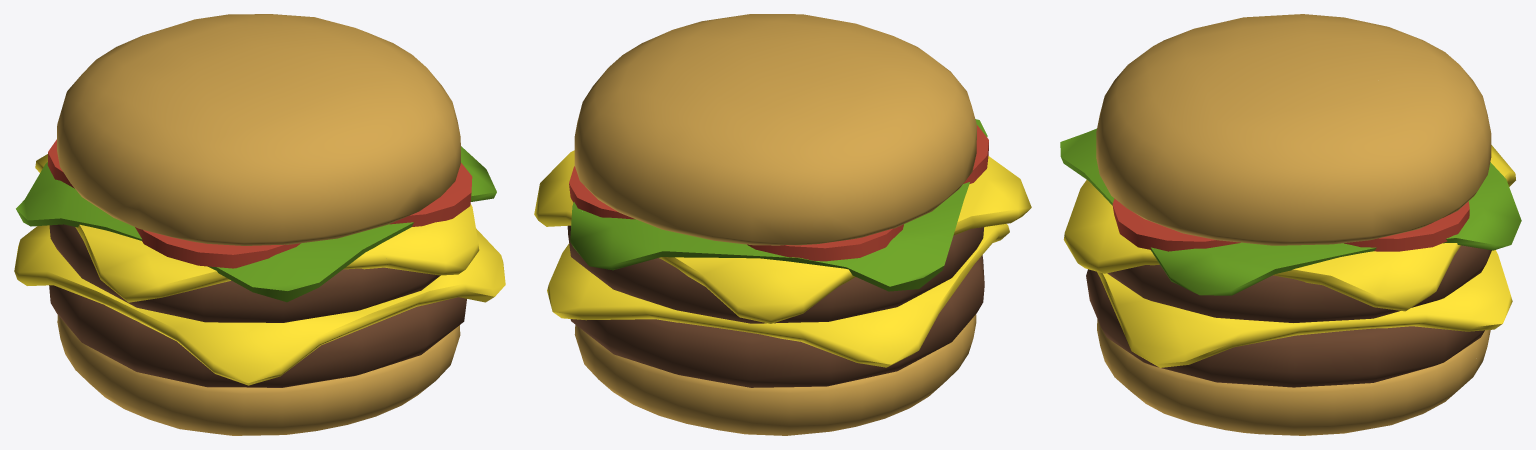
File: hamburger_low_rootss-orange62.fbx
3 renders of one model, left to right at view 1: azimuth 30°, elevation 25°; view 2: azimuth 150°, elevation 25°; view 3: azimuth 270°, elevation 25°, orthographic.
Visible parts, largest first — view 1: hamburger_low_1_sh_1, hamburger_low_1_sh_5, hamburger_low_1_sh_11, hamburger_low_1_sh_44, hamburger_low_1_sh_17, hamburger_low_1_sh_4, hamburger_low_1_sh_59, hamburger_low_1_sh_52, hamburger_low_1_sh_38, hamburger_low_1_sh_55, hamburger_low_1_sh_47, hamburger_low_1_sh_20 (+14 smaller); view 2: hamburger_low_1_sh_5, hamburger_low_1_sh_2, hamburger_low_1_sh_8, hamburger_low_1_sh_14, hamburger_low_1_sh_1, hamburger_low_1_sh_42, hamburger_low_1_sh_39, hamburger_low_1_sh_53, hamburger_low_1_sh_43, hamburger_low_1_sh_16, hamburger_low_1_sh_36, hamburger_low_1_sh_9 (+18 smaller); view 3: hamburger_low_1_sh_6, hamburger_low_1_sh_1, hamburger_low_1_sh_2, hamburger_low_1_sh_5, hamburger_low_1_sh_16, hamburger_low_1_sh_43, hamburger_low_1_sh_51, hamburger_low_1_sh_47, hamburger_low_1_sh_58, hamburger_low_1_sh_13, hamburger_low_1_sh_9, hamburger_low_1_sh_55 (+16 smaller).
Part boxes in pixels (x1=…): hamburger_low_1_sh_1: x1=178, y1=46, x2=455, y2=228; hamburger_low_1_sh_5: x1=57, y1=24, x2=320, y2=225; hamburger_low_1_sh_11: x1=105, y1=356, x2=384, y2=435; hamburger_low_1_sh_44: x1=83, y1=283, x2=384, y2=385; hamburger_low_1_sh_17: x1=89, y1=300, x2=386, y2=387; hamburger_low_1_sh_4: x1=131, y1=184, x2=370, y2=245; hamburger_low_1_sh_59: x1=86, y1=265, x2=381, y2=322; hamburger_low_1_sh_52: x1=87, y1=235, x2=387, y2=302; hamburger_low_1_sh_38: x1=123, y1=231, x2=376, y2=302; hamburger_low_1_sh_55: x1=376, y1=204, x2=479, y2=275; hamburger_low_1_sh_47: x1=377, y1=228, x2=505, y2=321; hamburger_low_1_sh_20: x1=380, y1=297, x2=466, y2=366; hamburger_low_1_sh_5: x1=679, y1=46, x2=974, y2=245; hamburger_low_1_sh_2: x1=574, y1=60, x2=730, y2=238; hamburger_low_1_sh_8: x1=688, y1=337, x2=961, y2=435; hamburger_low_1_sh_14: x1=690, y1=296, x2=961, y2=387; hamburger_low_1_sh_1: x1=683, y1=14, x2=968, y2=100; hamburger_low_1_sh_42: x1=720, y1=282, x2=956, y2=367; hamburger_low_1_sh_39: x1=695, y1=187, x2=966, y2=283; hamburger_low_1_sh_53: x1=695, y1=195, x2=985, y2=314; hamburger_low_1_sh_43: x1=547, y1=243, x2=720, y2=328; hamburger_low_1_sh_16: x1=570, y1=319, x2=720, y2=377; hamburger_low_1_sh_36: x1=575, y1=211, x2=703, y2=270; hamburger_low_1_sh_9: x1=574, y1=333, x2=701, y2=426; hamburger_low_1_sh_6: x1=1166, y1=93, x2=1381, y2=245; hamburger_low_1_sh_1: x1=1096, y1=25, x2=1294, y2=188; hamburger_low_1_sh_2: x1=1334, y1=66, x2=1491, y2=223; hamburger_low_1_sh_5: x1=1208, y1=14, x2=1477, y2=102; hamburger_low_1_sh_16: x1=1235, y1=326, x2=1484, y2=387; hamburger_low_1_sh_43: x1=1236, y1=250, x2=1512, y2=346; hamburger_low_1_sh_51: x1=1285, y1=243, x2=1460, y2=311; hamburger_low_1_sh_47: x1=1097, y1=272, x2=1238, y2=367; hamburger_low_1_sh_58: x1=1238, y1=245, x2=1491, y2=322; hamburger_low_1_sh_13: x1=1143, y1=379, x2=1308, y2=435; hamburger_low_1_sh_9: x1=1286, y1=330, x2=1490, y2=435; hamburger_low_1_sh_55: x1=1063, y1=188, x2=1159, y2=273.
Bounding box in the file's own units: 481 × 381 × 484.
Materials: 2 (1 with a texture image).
